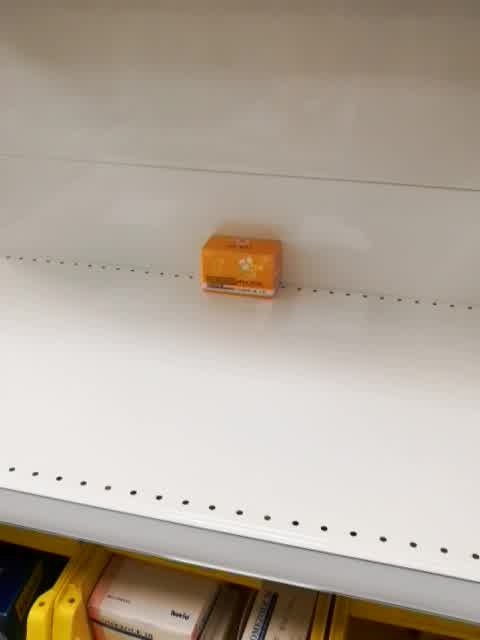jasminetea: (201, 233, 283, 301)
